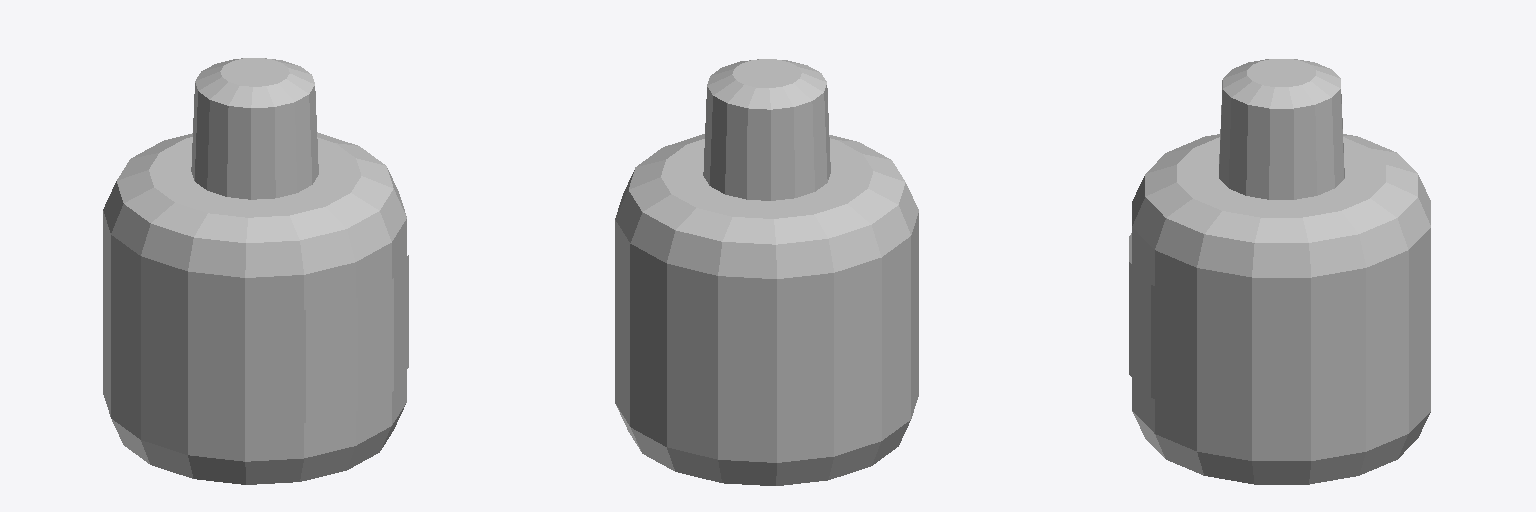
File: container_bathroom_B_blue.obj
3 renders of one model, left to right at view 1: azimuth 30°, elevation 25°; view 2: azimuth 150°, elevation 25°; view 3: azimuth 270°, elevation 25°, orthographic.
Parts seen in each view (by area): view 1: container_bathroom_B_blue; view 2: container_bathroom_B_blue; view 3: container_bathroom_B_blue.
Boxes of the visible parts, x1,y1,x2,y2 form: container_bathroom_B_blue: [103, 58, 408, 484]; container_bathroom_B_blue: [615, 59, 918, 485]; container_bathroom_B_blue: [1129, 59, 1430, 484].
Bounding box in the file's own units: 0.312 × 0.422 × 0.3162.